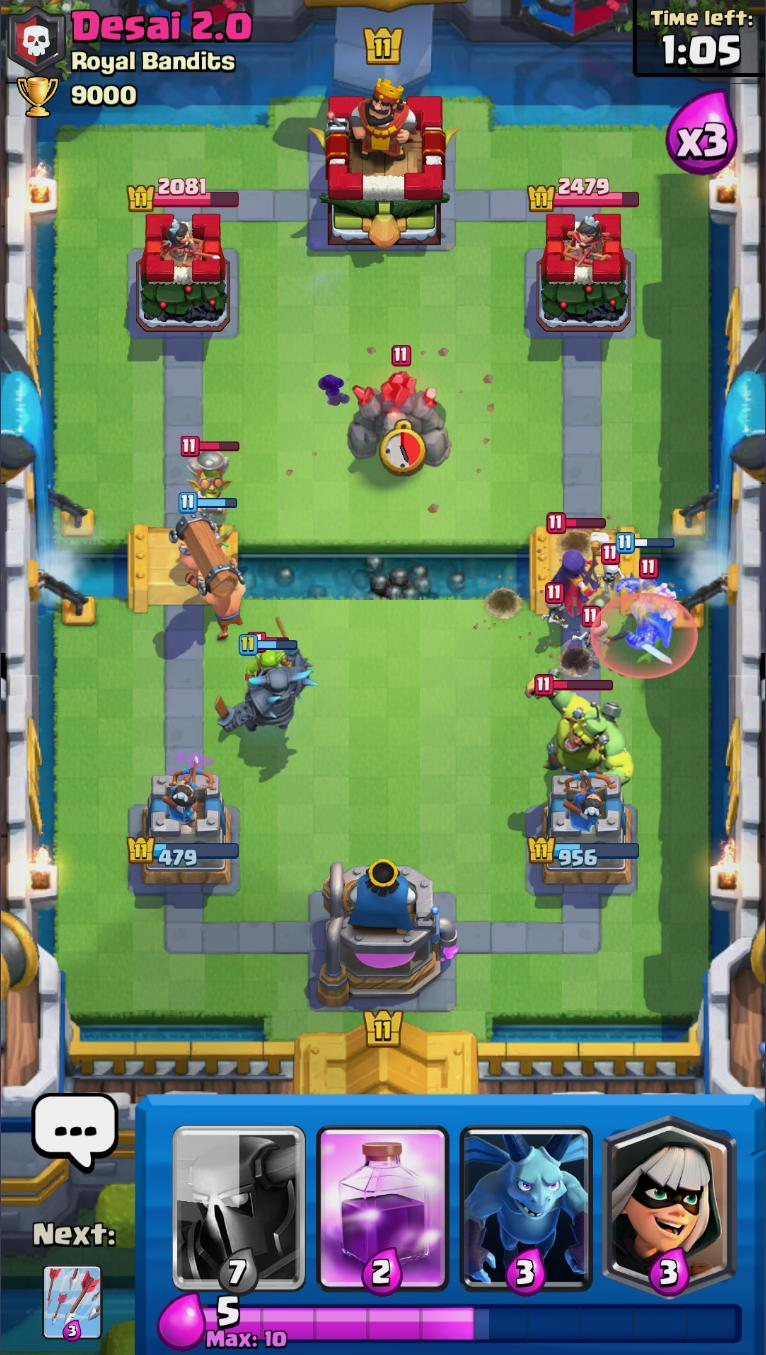ArrowNext: (41, 1264, 103, 1343)
BanditDeck: (599, 1094, 744, 1296)
Elixir: (203, 1295, 744, 1350)
EnemyTower: (533, 208, 631, 331), (133, 210, 229, 335)
Goblin: (244, 631, 292, 671)
Goblinstein: (524, 671, 634, 787)
GoblinsteinScientist: (181, 435, 241, 535)
Golem: (343, 345, 456, 470)
KingTower: (308, 82, 456, 248)
MinionsDeck: (456, 1094, 598, 1295)
MyBattleRam: (168, 491, 248, 640)
MyKingTower: (319, 856, 458, 1009)
MyPekka: (212, 635, 321, 733)
MyPrincessTower: (524, 771, 639, 887), (125, 769, 238, 887)
MyPrincessTowerHP: (125, 836, 238, 868), (525, 835, 637, 867)
MyRoyaleGhost: (615, 532, 684, 668)
PekkaDeck: (167, 1095, 310, 1296)
PrincessTower: (555, 213, 612, 264), (148, 214, 204, 264)
RageDeck: (311, 1095, 455, 1296)
Skeleton: (573, 605, 609, 656), (543, 582, 568, 630), (598, 545, 623, 593)
TowerPrincessHP: (126, 178, 239, 213), (526, 178, 639, 212)
Witch: (548, 512, 613, 617)
